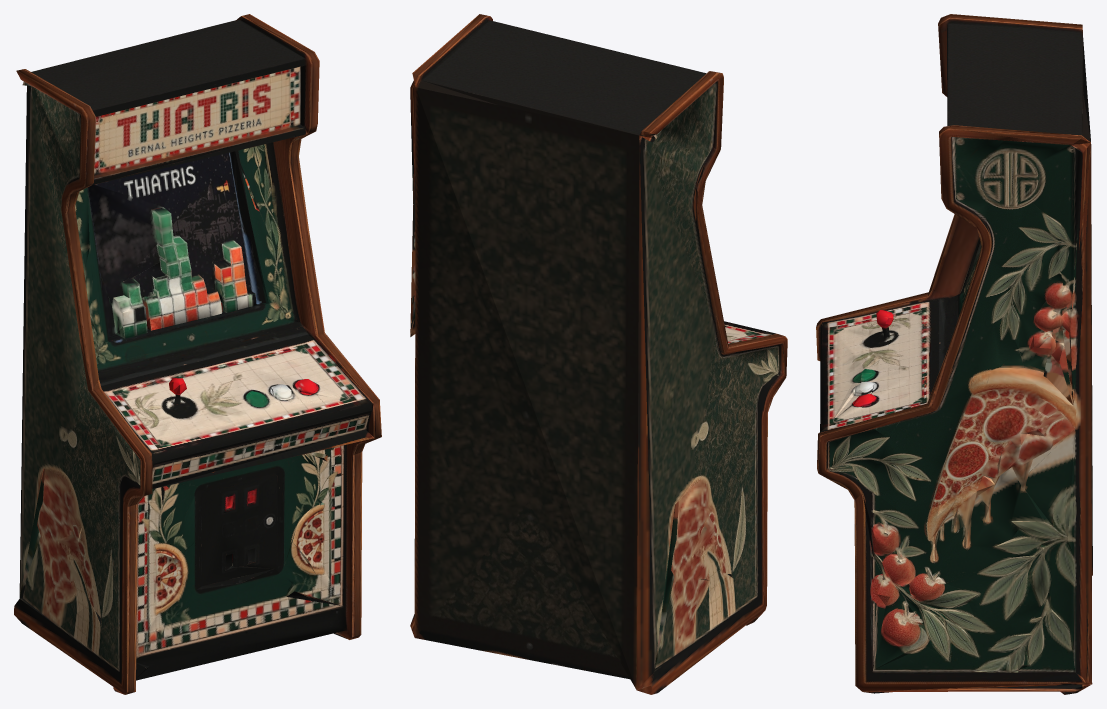
File: thiatris.glb
3 renders of one model, left to right at view 1: azimuth 30°, elevation 25°; view 2: azimuth 150°, elevation 25°; view 3: azimuth 270°, elevation 25°, orthographic. The views are drawn at different scales.
Visible parts, largest first — view 1: output_unwrapped; view 2: output_unwrapped; view 3: output_unwrapped.
Part boxes in pixels (x1,y1,x2,y2): output_unwrapped: [14, 14, 381, 694]; output_unwrapped: [410, 14, 787, 694]; output_unwrapped: [816, 14, 1092, 694].
Bounding box in the file's own units: 0.8449 × 1.87 × 0.829.
1 material, 1 textured.
